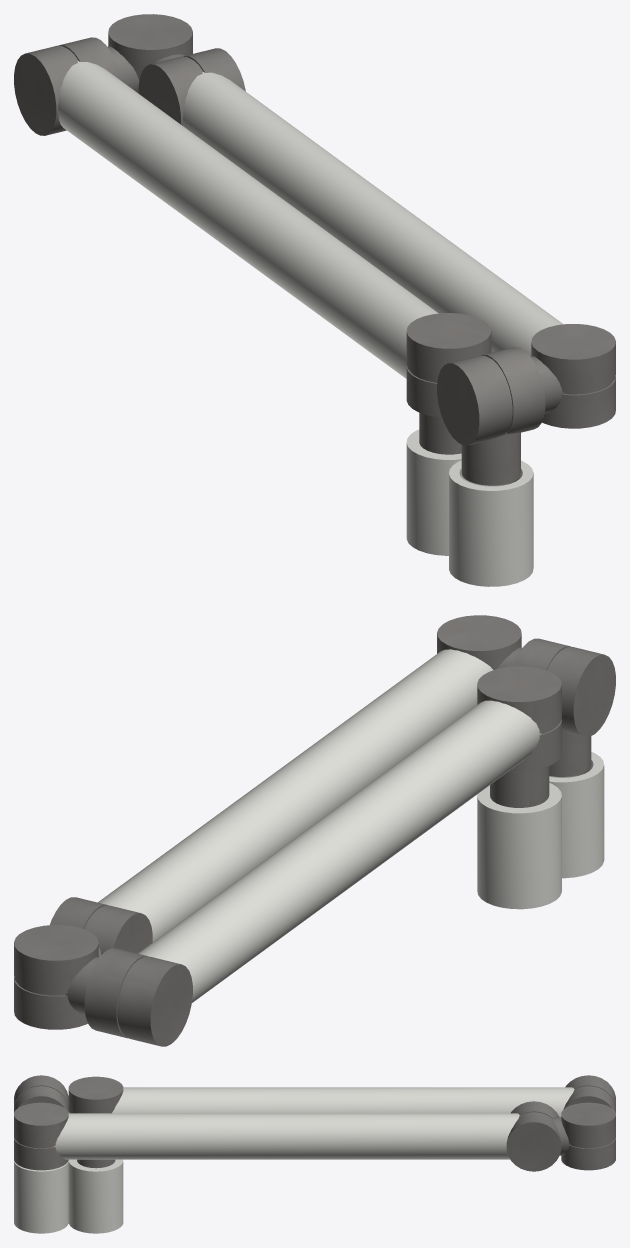
Rendered from ax_util_15_station_arm.glb.
3 views of the same model, one above another, from view 1: azimuth 30°, elevation 25°; view 2: azimuth 150°, elevation 25°; view 3: azimuth 270°, elevation 25° (orthographic). The views are drawn at different scales.
Visible parts, largest first — view 1: arm_link_6, arm_link_3, end_effector_a, joint_1, joint_2, joint_6, joint_5, end_effector_b, joint_3, joint_4, arm_link_1, arm_link_7 (+1 smaller); view 2: arm_link_6, arm_link_3, end_effector_b, joint_5, joint_4, joint_1, joint_6, end_effector_a, joint_3, joint_2, arm_link_7, arm_link_1 (+1 smaller); view 3: arm_link_3, arm_link_6, end_effector_b, end_effector_a, joint_4, joint_2, joint_3, joint_6, joint_1, joint_5, arm_link_4, arm_link_7.
Part boxes in pixels (<box>): arm_link_6: <box>58,61,438,378</box>; arm_link_3: <box>183,72,563,356</box>; end_effector_a: <box>449,460,533,586</box>; joint_1: <box>437,347,545,445</box>; joint_2: <box>531,324,615,428</box>; joint_6: <box>406,313,491,417</box>; joint_5: <box>14,37,120,135</box>; end_effector_b: <box>406,429,461,555</box>; joint_3: <box>138,48,245,125</box>; joint_4: <box>108,14,192,93</box>; arm_link_1: <box>461,432,520,485</box>; arm_link_7: <box>419,412,461,454</box>; arm_link_6: <box>138,700,541,1002</box>; arm_link_3: <box>98,649,493,942</box>; end_effector_b: <box>477,783,561,909</box>; joint_5: <box>84,948,192,1046</box>; joint_4: <box>14,925,98,1029</box>; joint_1: <box>513,638,615,736</box>; joint_6: <box>477,666,561,771</box>; end_effector_a: <box>549,752,604,878</box>; joint_3: <box>50,897,152,954</box>; joint_2: <box>437,615,521,669</box>; arm_link_7: <box>490,766,549,807</box>; arm_link_1: <box>549,730,591,776</box>; arm_link_3: <box>53,1113,519,1159</box>; arm_link_6: <box>112,1087,574,1117</box>; end_effector_b: <box>68,1159,123,1233</box>; end_effector_a: <box>14,1161,68,1233</box>; joint_4: <box>561,1102,615,1170</box>; joint_2: <box>14,1102,68,1170</box>; joint_3: <box>506,1101,561,1171</box>; joint_6: <box>68,1076,123,1113</box>; joint_1: <box>14,1075,68,1112</box>; joint_5: <box>563,1075,615,1112</box>; arm_link_4: <box>553,1117,570,1155</box>; arm_link_7: <box>77,1159,115,1168</box>.
Bounding box in the file's own units: 0.85 × 1.1 × 4.4.
2 materials, 1 textured.
